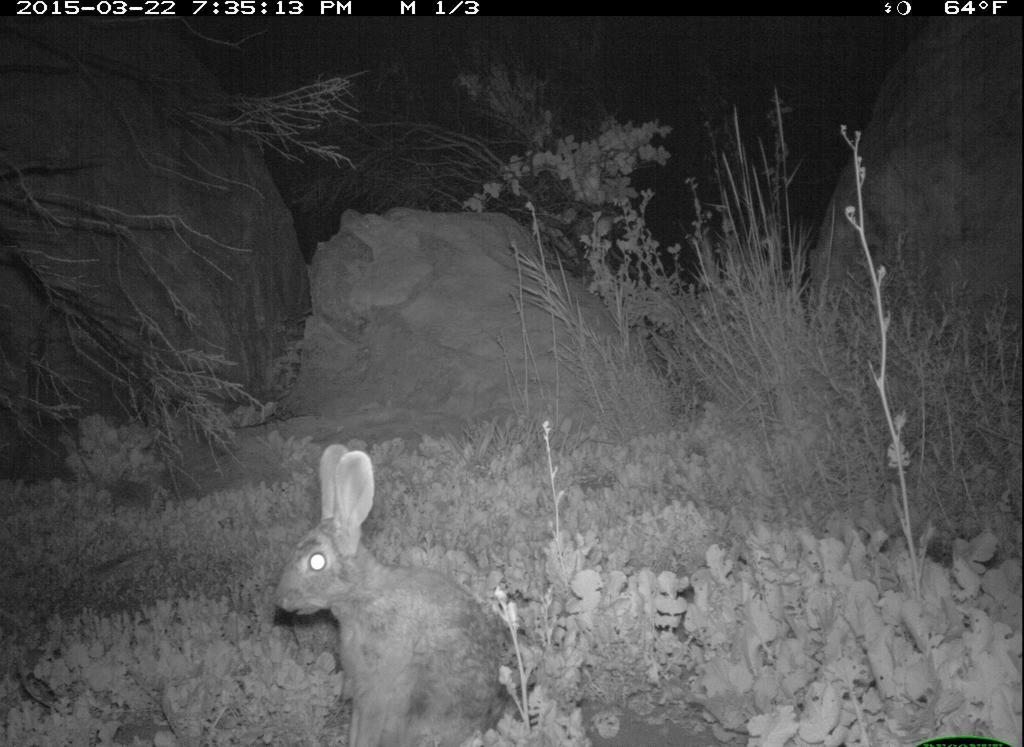rabbit: (264, 433, 510, 740)
